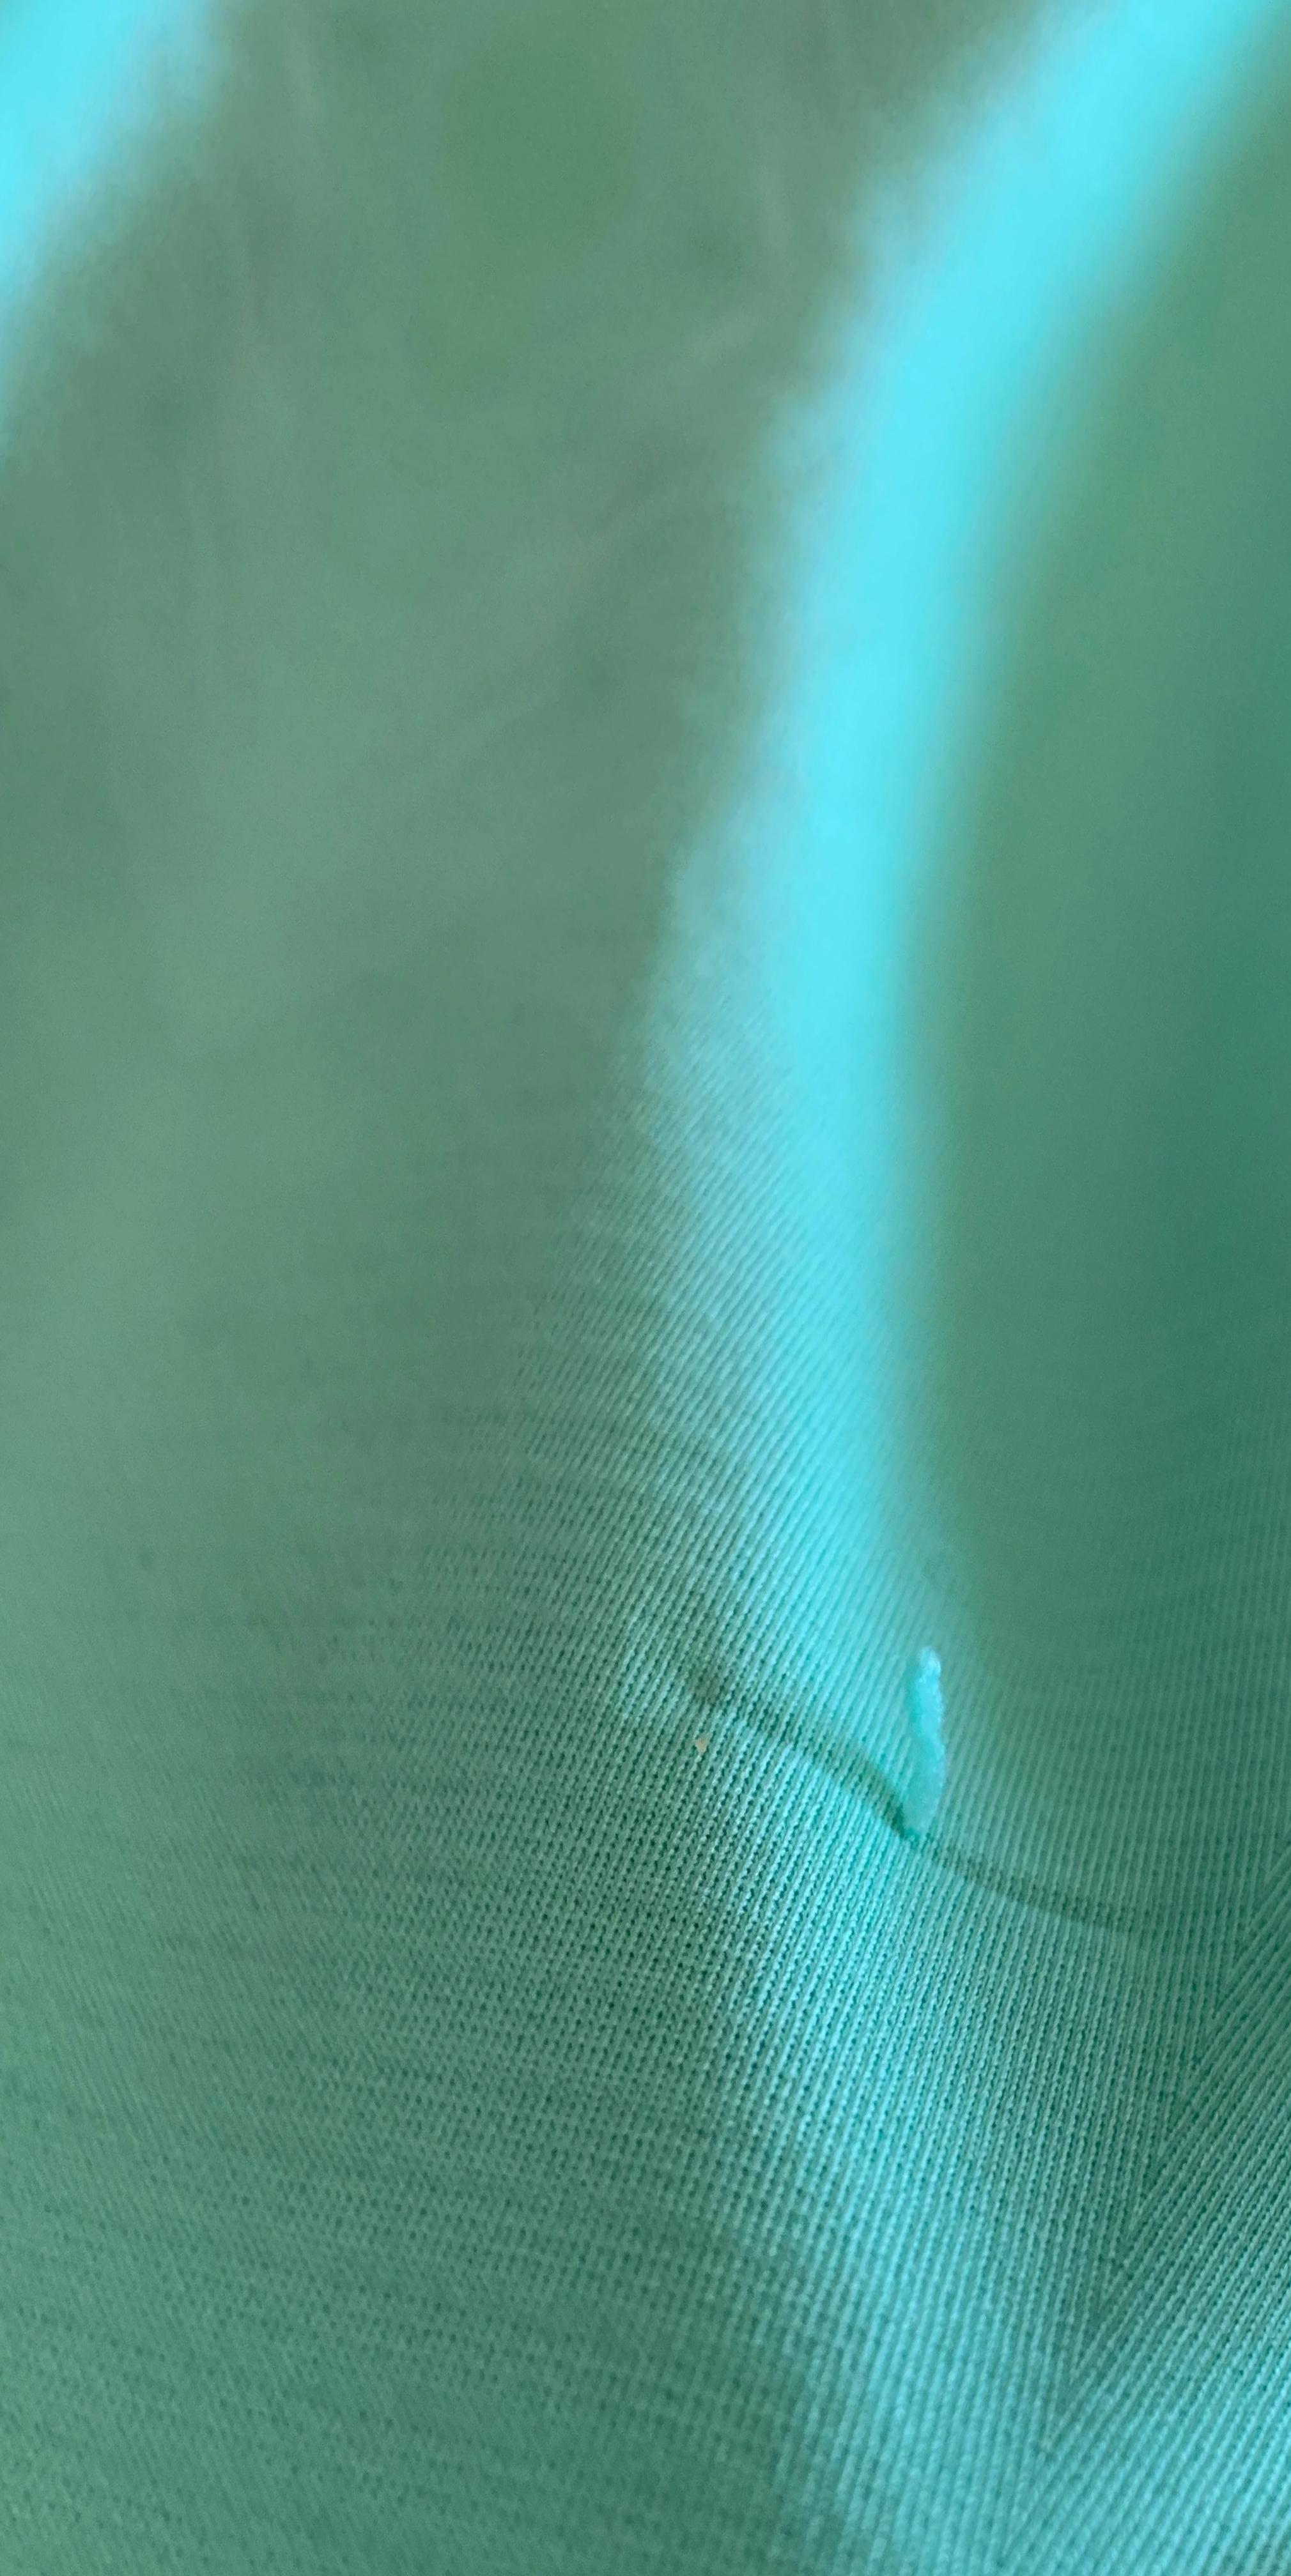snag: (797, 1577, 1037, 1969)
